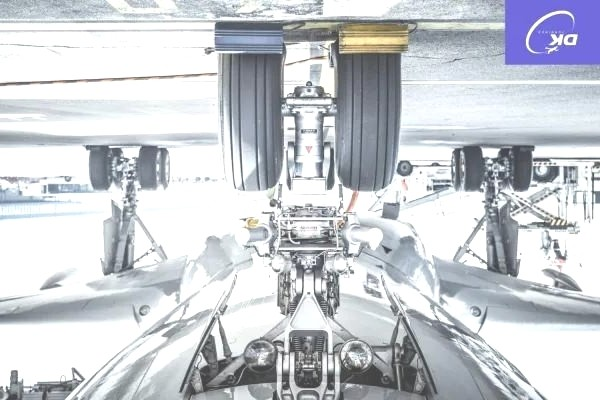chock: (337, 22, 412, 56), (213, 23, 283, 57), (83, 143, 110, 153), (511, 144, 536, 153)
wheel: (217, 25, 286, 192), (335, 39, 405, 191), (497, 147, 534, 193), (453, 147, 485, 193), (89, 146, 120, 192), (140, 147, 171, 192), (108, 148, 127, 189), (531, 159, 559, 183), (497, 149, 513, 190), (157, 149, 172, 191), (451, 149, 464, 191), (325, 145, 336, 192), (286, 146, 296, 192), (397, 161, 413, 177)
